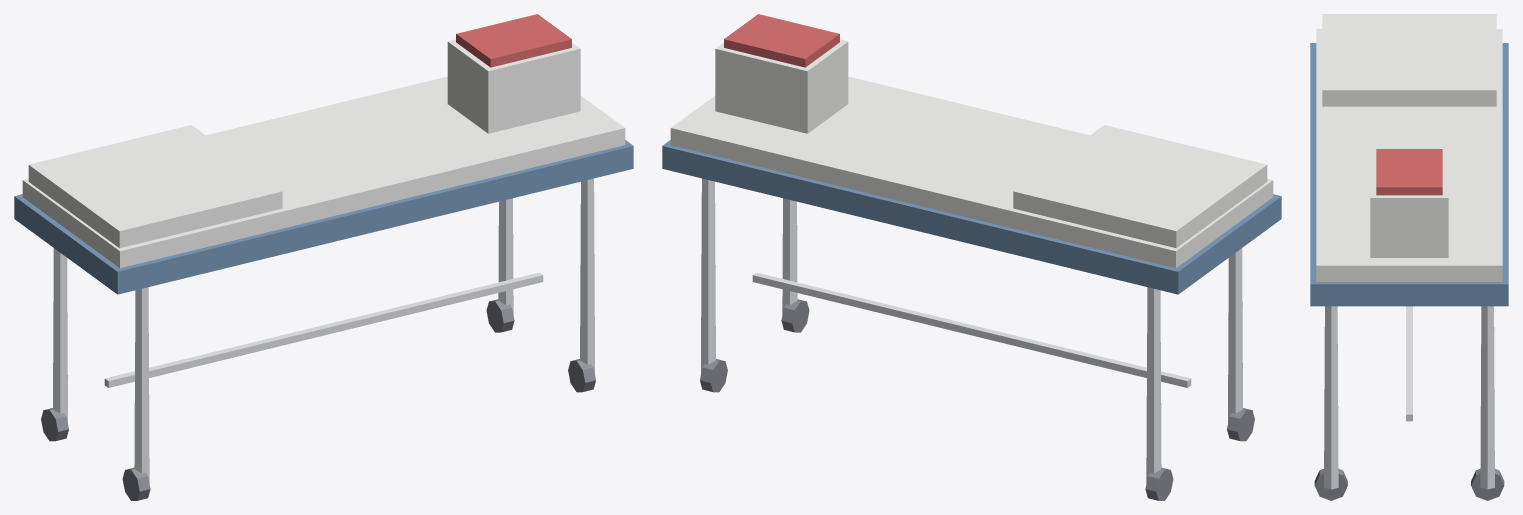
The model's file is martial-arts-dojo-and-fight-stages-medical-table-7502620e__18093.glb.
3 views of the same model, side by side, from view 1: azimuth 30°, elevation 25°; view 2: azimuth 150°, elevation 25°; view 3: azimuth 270°, elevation 25° (orthographic). The views are drawn at different scales.
Parts seen in each view (by area): view 1: medical-table; view 2: medical-table; view 3: medical-table.
Boxes of the visible parts, x1,y1,x2,y2 form: medical-table: [14, 14, 633, 500]; medical-table: [662, 14, 1281, 500]; medical-table: [1310, 14, 1508, 500].
Bounding box in the file's own units: 1.9 × 1.16 × 0.6599.
